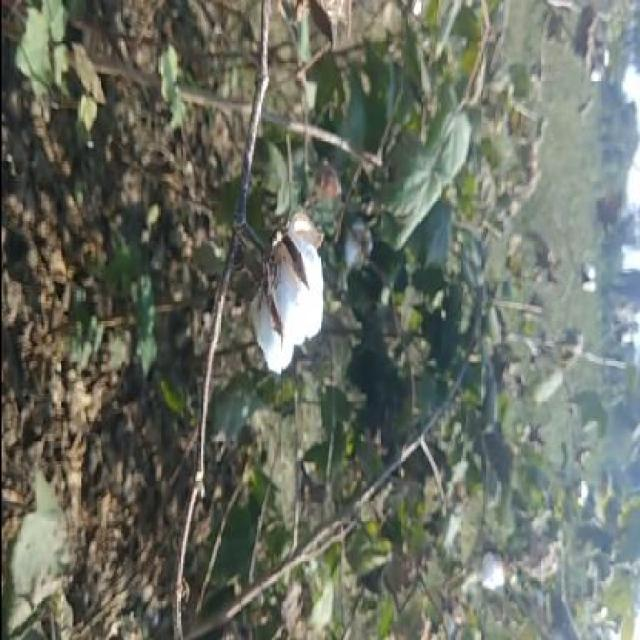cotton_ready: (202, 172, 347, 380)
